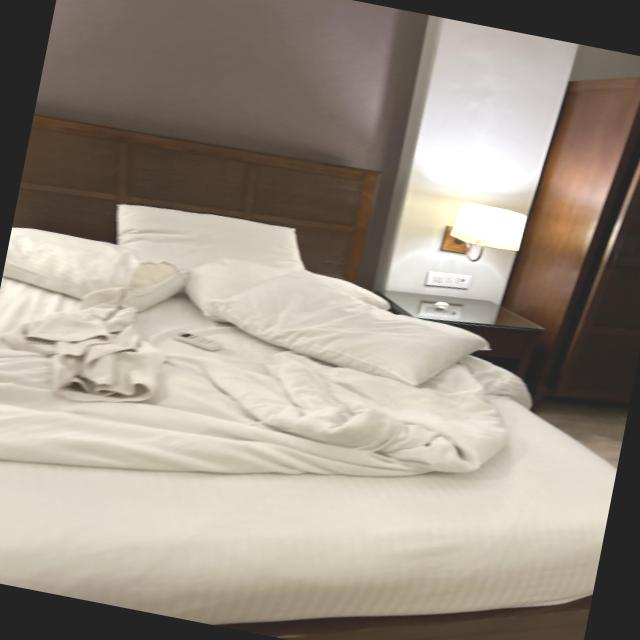mess: (0, 210, 420, 640), (254, 298, 638, 640)
